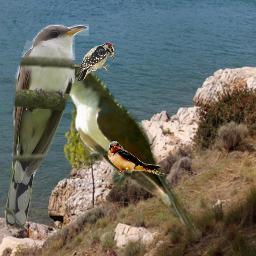Cuckoo: (44, 60, 202, 241), (5, 24, 89, 231)
Swallow: (107, 141, 168, 178)
Woodpecker: (73, 42, 114, 83)
